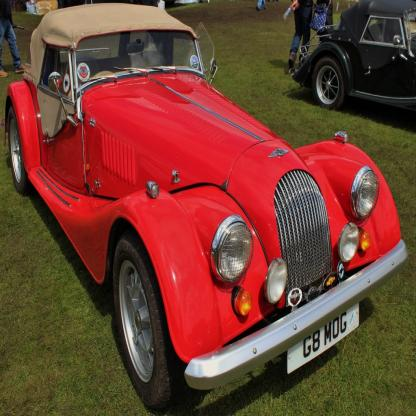Car: (7, 1, 410, 414), (295, 3, 416, 130)
